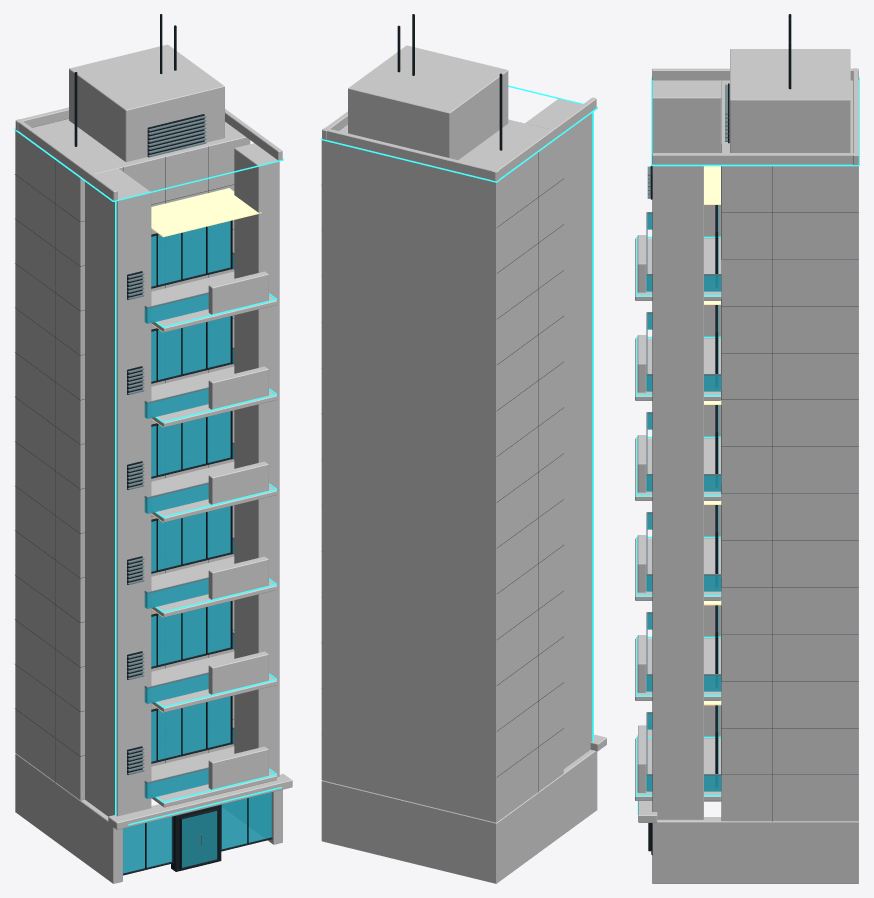
Rendered from building_02.glb.
3 renders of one model, left to right at view 1: azimuth 30°, elevation 25°; view 2: azimuth 150°, elevation 25°; view 3: azimuth 270°, elevation 25°, orthographic. The views are drawn at different scales.
Visible parts, largest first — view 1: Tower rear mass, Vertical service spine, Window glazing.001, Right pier, Floor slabs.001, Roof machine house, Projecting balcony apron, Ground level columns.001, Balcony glass.001, Window mullions.001, Vent louvers.001, Warm recessed ceiling (+10 smaller); view 2: Tower rear mass, Vertical service spine, Roof machine house, Ground level rear wall.001, Ground level columns.001, Parapets.001, Facade panel seams.001, Vertical cyan spine, Cyan roof edges.001, Roof aerials; view 3: Tower rear mass, Right pier, Ground level columns.001, Roof machine house, Vertical service spine, Floor slabs.001, Parapets.001, Projecting balcony apron, Balcony returns.001, Facade panel seams.001, Cyan roof edges.001, Window mullions.001 (+4 smaller).
Boxes of the visible parts, x1,y1,x2,y2 form: Tower rear mass: (15,119,250,800); Vertical service spine: (85,168,151,816); Window glazing.001: (123,221,271,873); Right pier: (234,143,279,777); Floor slabs.001: (151,271,276,807); Roof machine house: (69,44,224,161); Projecting balcony apron: (208,271,268,789); Ground level columns.001: (15,753,282,883); Balcony glass.001: (147,294,208,798); Window mullions.001: (123,220,272,875); Vent louvers.001: (127,115,206,774); Warm recessed ceiling: (151,188,261,712); Tower rear mass: (321,119,563,822); Vertical service spine: (525,99,592,768); Roof machine house: (348,45,508,159); Ground level rear wall.001: (321,780,500,883); Ground level columns.001: (322,749,597,882); Parapets.001: (322,97,596,181); Facade panel seams.001: (497,152,563,792); Vertical cyan spine: (592,112,593,741); Cyan roof edges.001: (321,85,597,182); Roof aerials: (397,14,502,150); Tower rear mass: (721,80,858,821); Right pier: (652,166,703,819); Ground level columns.001: (652,800,858,883); Roof machine house: (730,49,850,152); Vertical service spine: (652,80,721,738); Floor slabs.001: (635,238,721,800); Parapets.001: (652,68,858,164); Projecting balcony apron: (637,235,646,792); Balcony returns.001: (647,213,721,791); Facade panel seams.001: (721,144,858,821); Cyan roof edges.001: (636,77,859,796); Window mullions.001: (648,205,717,851).
Size of the model in its own units: 12.4 by 53.7 by 13.05.
